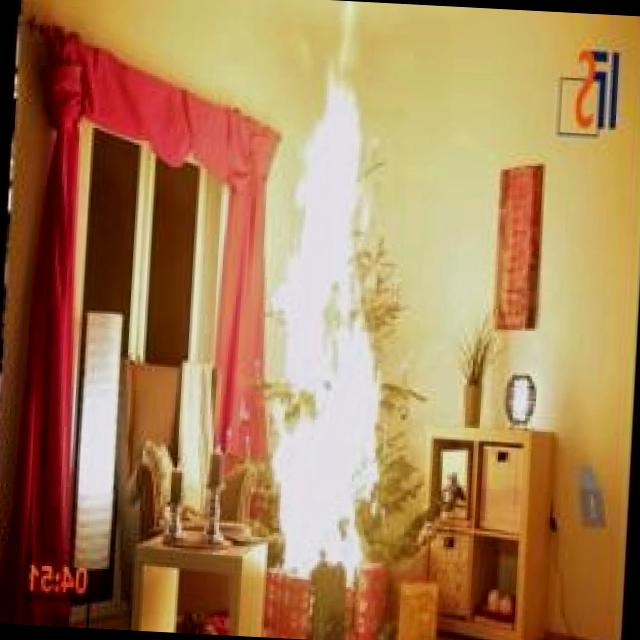fire: (223, 0, 454, 596)
